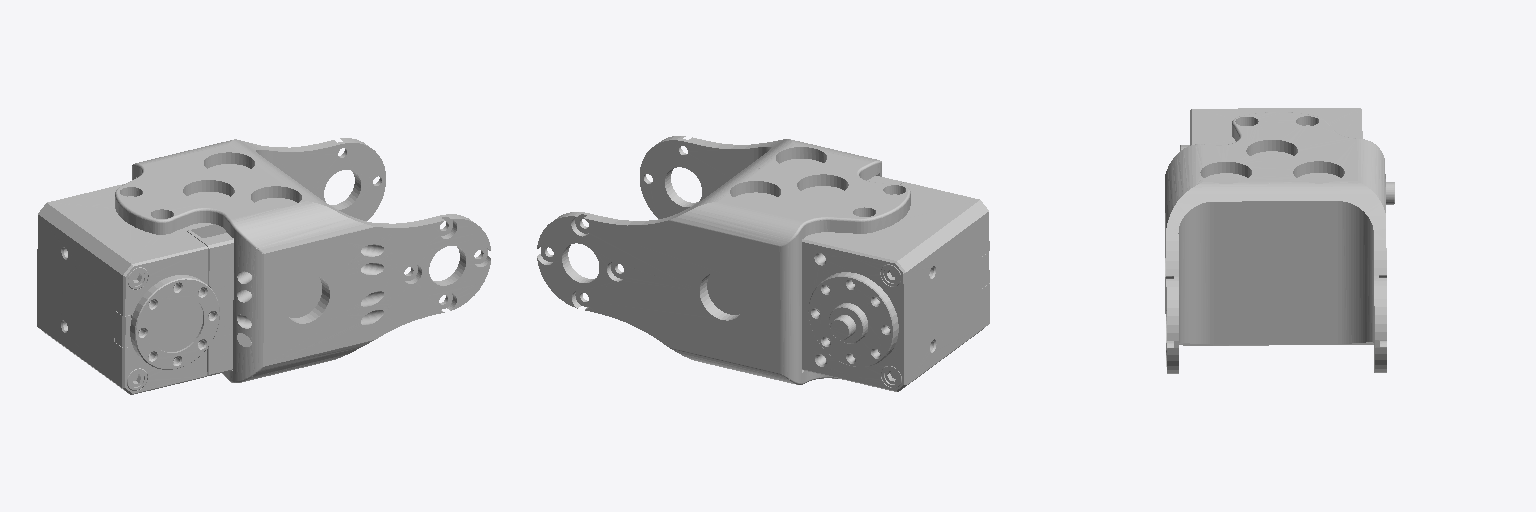
3 renders of one model, left to right at view 1: azimuth 30°, elevation 25°; view 2: azimuth 150°, elevation 25°; view 3: azimuth 270°, elevation 25°, orthographic.
Visible parts, largest first — view 1: link1; view 2: link1; view 3: link1.
Boxes of the visible parts, <box> form: link1: <box>37,138,490,394</box>; link1: <box>537,136,989,391</box>; link1: <box>1165,108,1394,373</box>.
Size of the model in its own units: 0.0815 by 0.0352 by 0.0454.